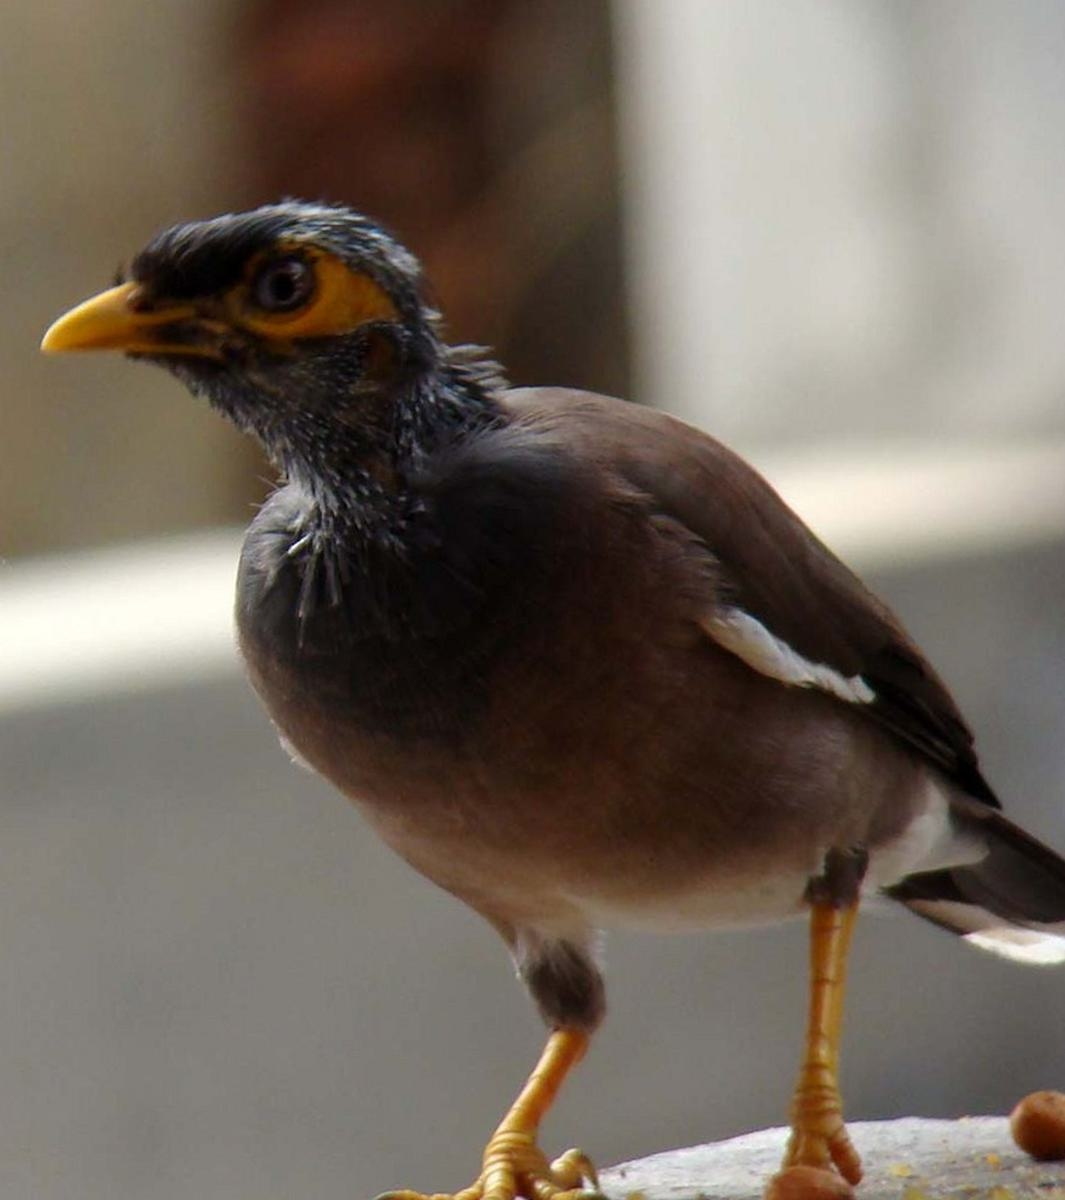myna: (58, 176, 1011, 1118)
